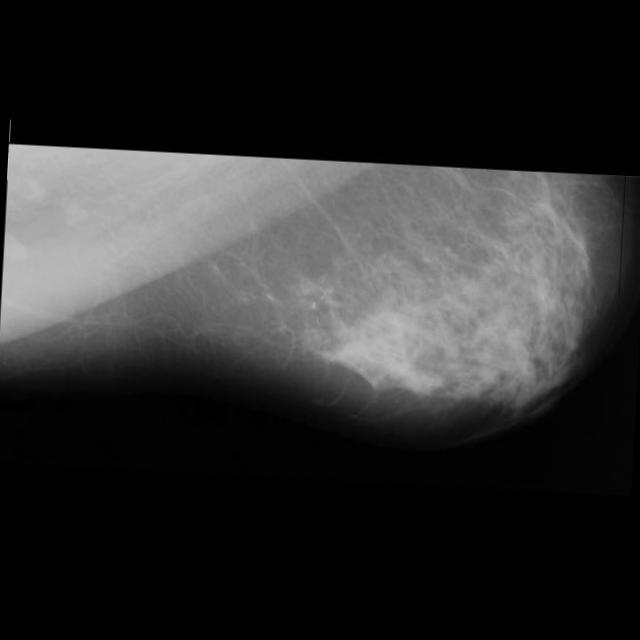CALC: (292, 268, 356, 332)
